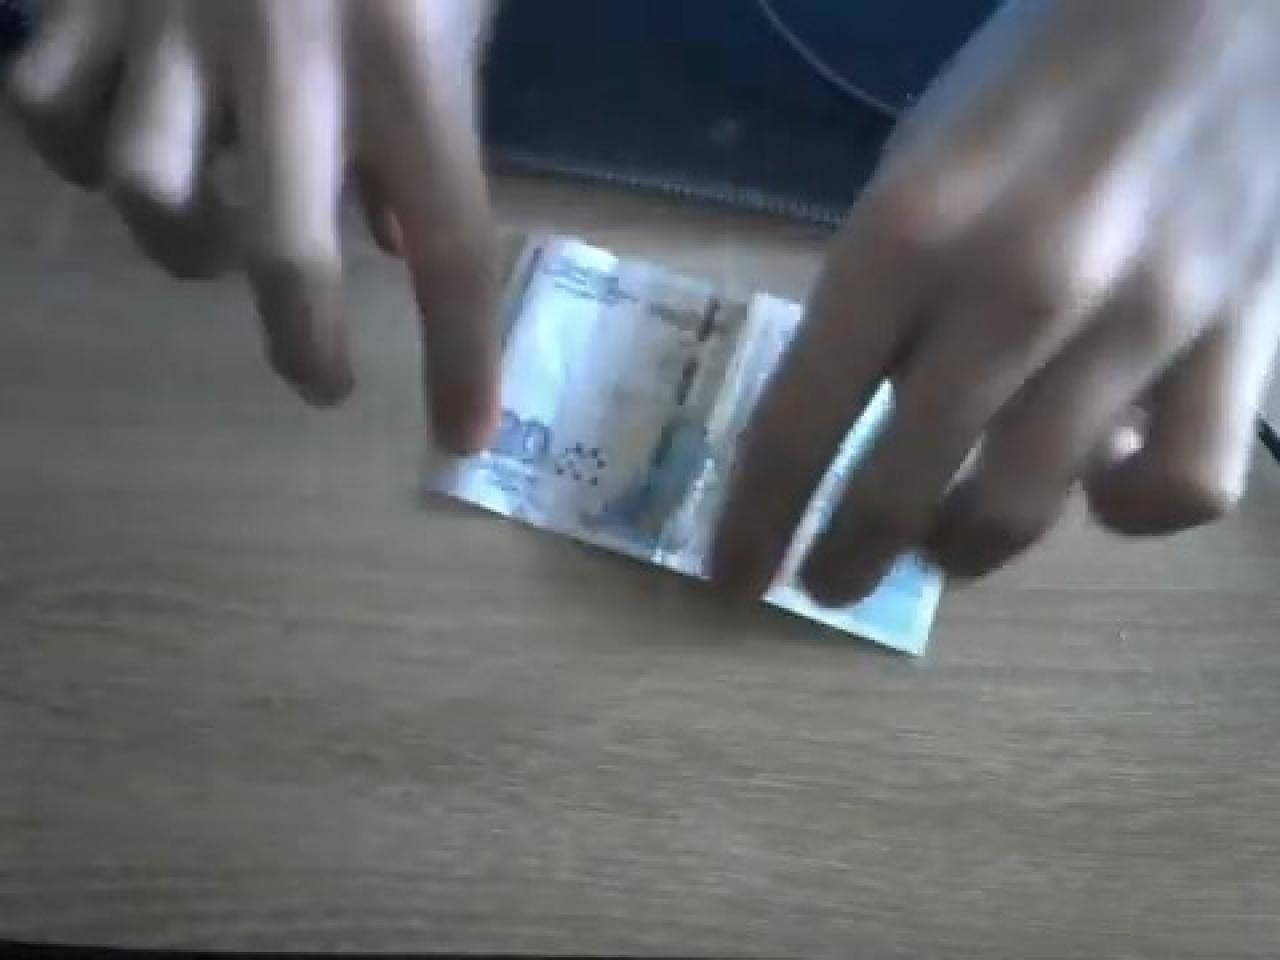20leva: (429, 237, 779, 579)
